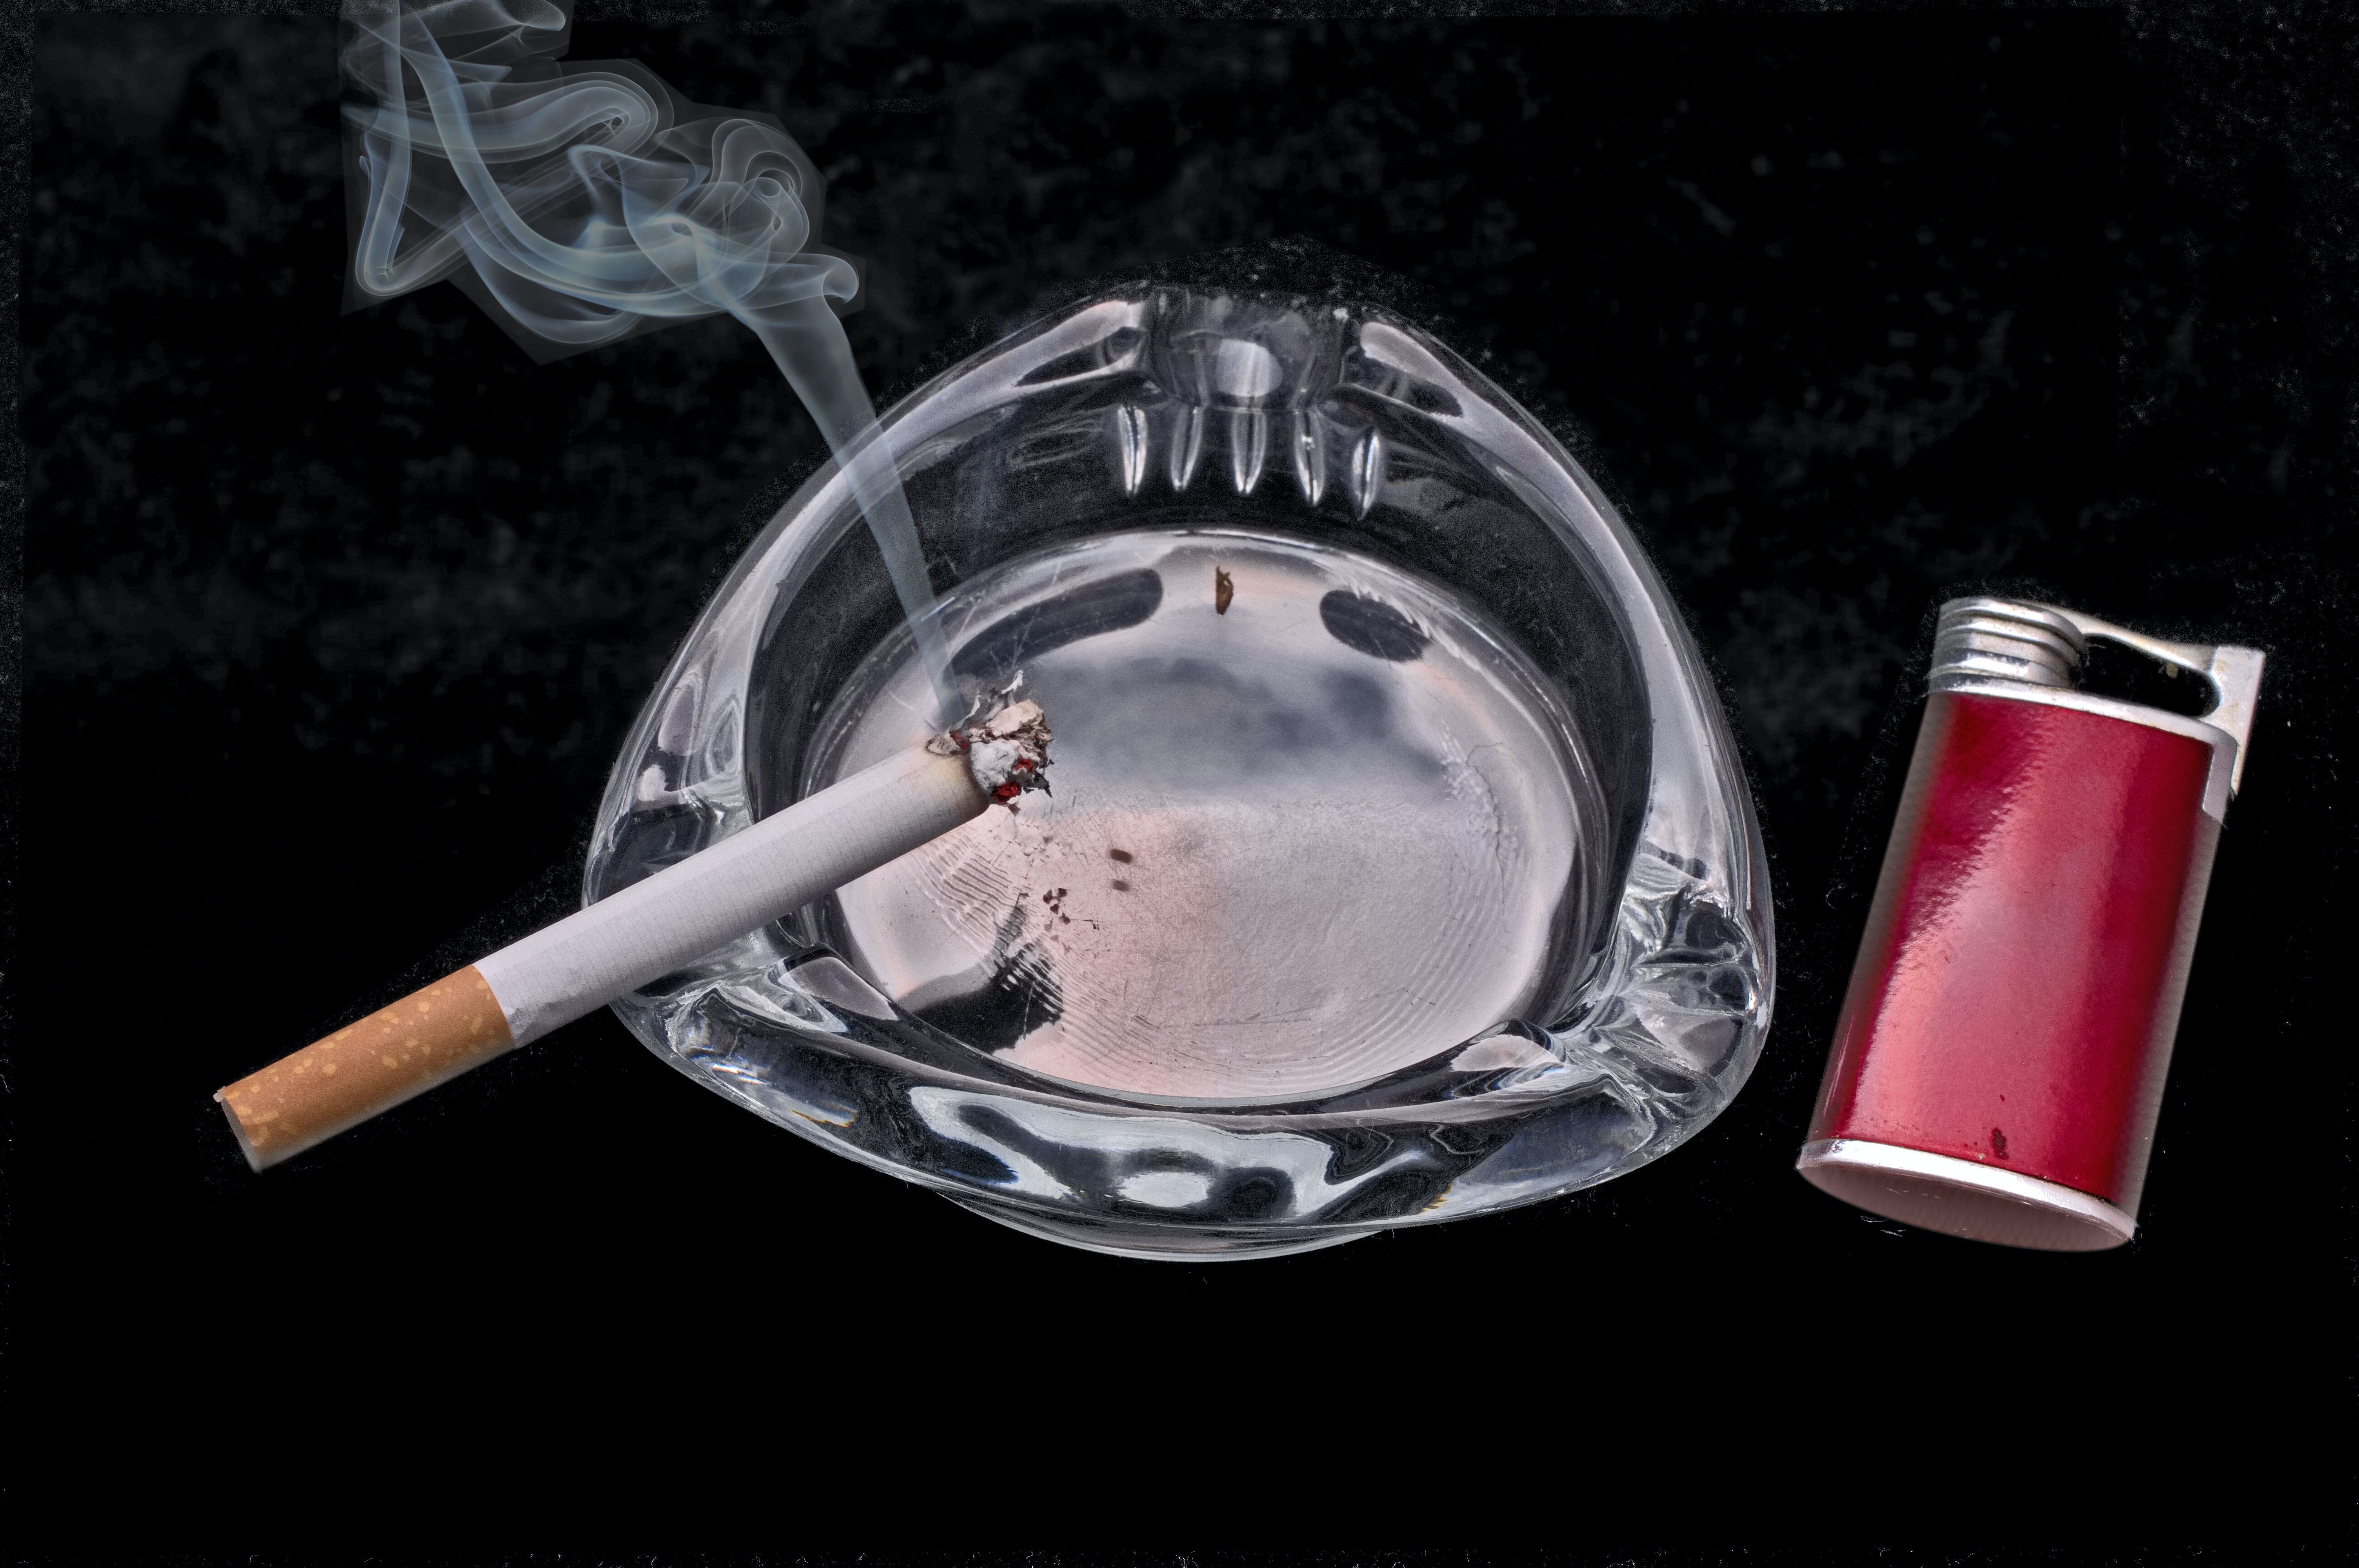cigarette: (201, 688, 1057, 1181)
